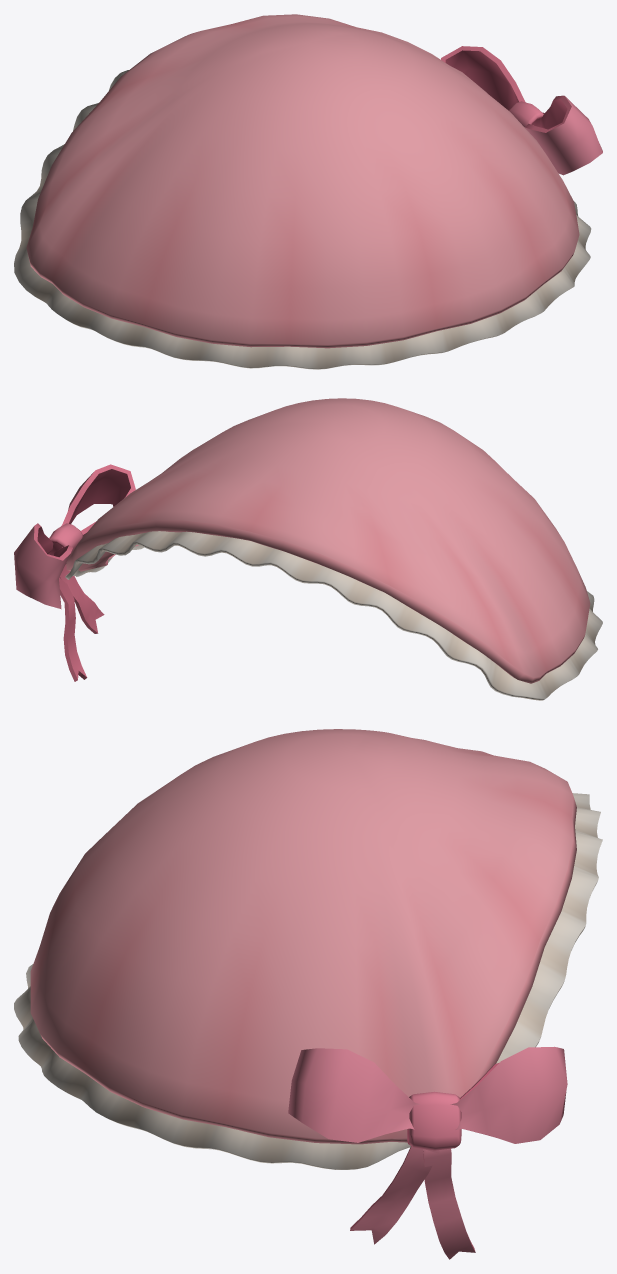
File: Cosmetic_Bonnet.glb
The picture shows the model from 3 angles, top to bottom: view 1: azimuth 30°, elevation 25°; view 2: azimuth 150°, elevation 25°; view 3: azimuth 270°, elevation 25°; orthographic projection. The views are drawn at different scales.
Visible parts, largest first — view 1: Cosmetic_Bonnet; view 2: Cosmetic_Bonnet; view 3: Cosmetic_Bonnet.
Part boxes in pixels (x1=…): Cosmetic_Bonnet: x1=14, y1=14, x2=602, y2=369; Cosmetic_Bonnet: x1=14, y1=398, x2=602, y2=700; Cosmetic_Bonnet: x1=14, y1=729, x2=602, y2=1259.
Bounding box in the file's own units: 1.4 × 0.7371 × 1.06.
